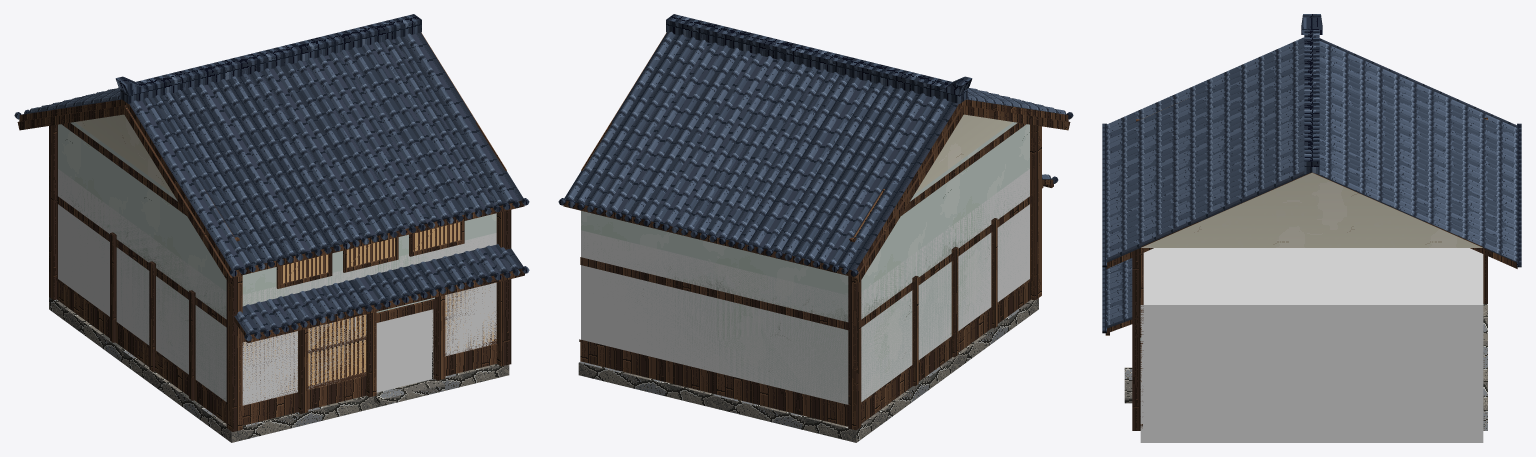
Rendered from JP_Row_House_B_L.glb.
The picture shows the model from 3 angles, left to right: view 1: azimuth 30°, elevation 25°; view 2: azimuth 150°, elevation 25°; view 3: azimuth 270°, elevation 25°; orthographic projection. The views are drawn at different scales.
Visible parts, largest first — view 1: JP_Row_House_B_L, COL_JP_Row_House_B_L; view 2: JP_Row_House_B_L, COL_JP_Row_House_B_L; view 3: JP_Row_House_B_L, COL_JP_Row_House_B_L.
Part boxes in pixels (left/top/right/bottom): JP_Row_House_B_L: left=14, top=14, right=529, bottom=442; COL_JP_Row_House_B_L: left=58, top=169, right=496, bottom=405; JP_Row_House_B_L: left=558, top=14, right=1073, bottom=442; COL_JP_Row_House_B_L: left=581, top=169, right=1029, bottom=404; JP_Row_House_B_L: left=1102, top=14, right=1521, bottom=430; COL_JP_Row_House_B_L: left=1140, top=248, right=1483, bottom=442.
Size of the model in its own units: 8.8 by 8.36 by 11.
10 materials, 10 textured.
